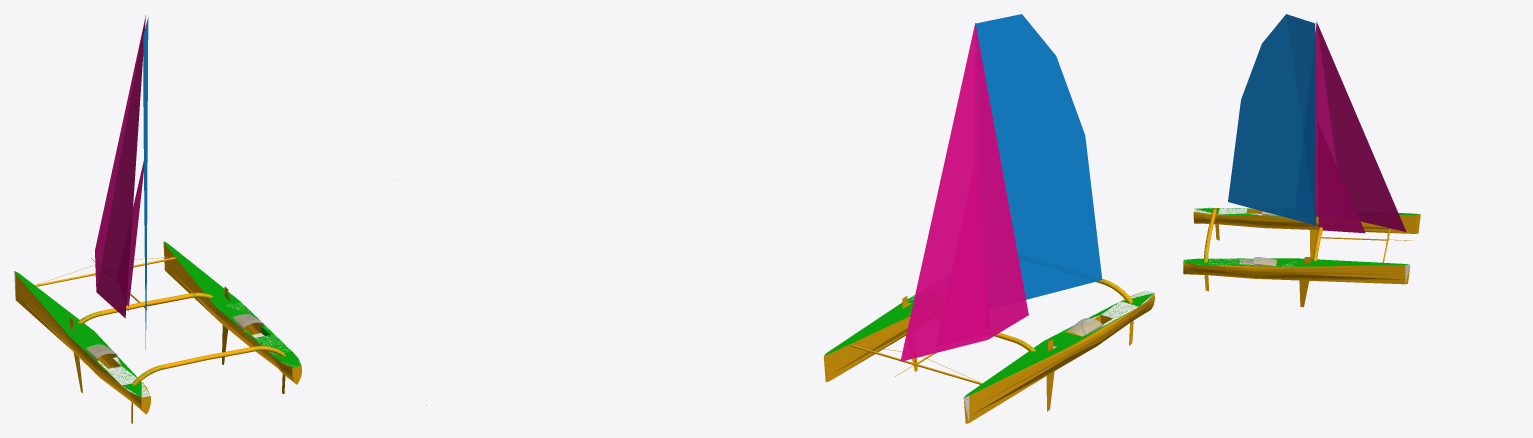
File: genois_tribord_catamaran.dae
3 renders of one model, left to right at view 1: azimuth 30°, elevation 25°; view 2: azimuth 150°, elevation 25°; view 3: azimuth 270°, elevation 25°, orthographic. The views are drawn at different scales.
Parts seen in each view (by area): view 1: SketchUp (×10); view 2: SketchUp (×8); view 3: SketchUp (×8).
Boxes of the visible parts, left/top/right/bottom form: SketchUp (×10): left=14, top=15, right=301, bottom=414; SketchUp (×8): left=823, top=14, right=1154, bottom=423; SketchUp (×8): left=1183, top=14, right=1420, bottom=284.
Bounding box in the file's own units: 188600 × 156303 × 135616.
